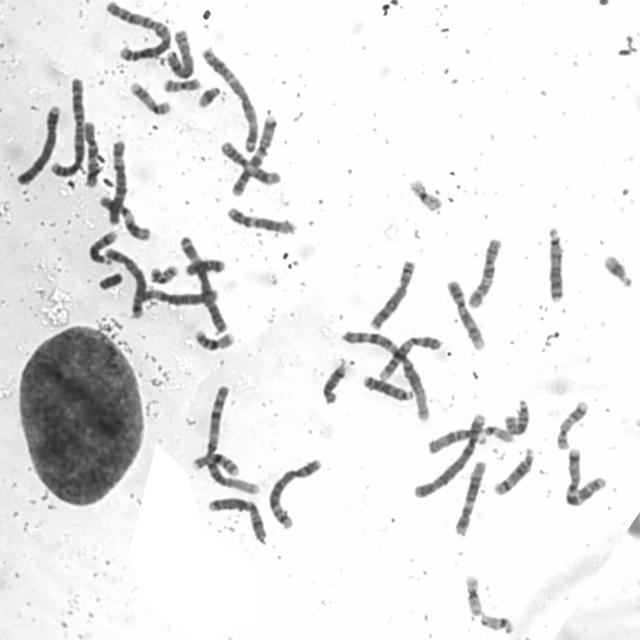A1: (339, 327, 432, 423), (202, 382, 260, 498)
A2: (103, 0, 174, 64), (48, 74, 87, 179)
A3: (199, 44, 260, 154), (177, 232, 229, 334)
B4: (411, 409, 488, 500), (13, 100, 62, 186)
B5: (265, 455, 323, 531), (101, 244, 148, 320)
C10: (464, 234, 504, 310), (81, 118, 100, 190)
C11: (217, 138, 282, 186), (96, 193, 152, 242)
C12: (452, 458, 488, 537), (224, 204, 298, 236)
C6: (134, 284, 220, 308), (105, 137, 128, 225)
C7: (229, 112, 280, 198), (561, 444, 608, 508)
C8: (367, 257, 417, 332), (162, 27, 196, 80)
C9: (444, 278, 486, 352), (382, 334, 444, 381)
D13: (544, 222, 564, 303), (361, 372, 414, 402)
D14: (490, 444, 536, 497), (86, 228, 119, 266)
D15: (425, 422, 490, 456), (501, 396, 531, 436)
E16: (189, 450, 242, 477), (192, 327, 236, 352)
E17: (554, 398, 590, 451), (128, 79, 172, 116)
E18: (321, 361, 348, 405), (182, 255, 227, 278)
F19: (407, 175, 443, 213), (463, 572, 484, 618)
F20: (147, 261, 180, 286), (161, 75, 202, 93)
G21: (600, 251, 634, 289), (195, 82, 226, 110)
G22: (477, 612, 515, 634), (479, 423, 515, 444)
X: (205, 494, 270, 545)
Y: (96, 270, 124, 290)
